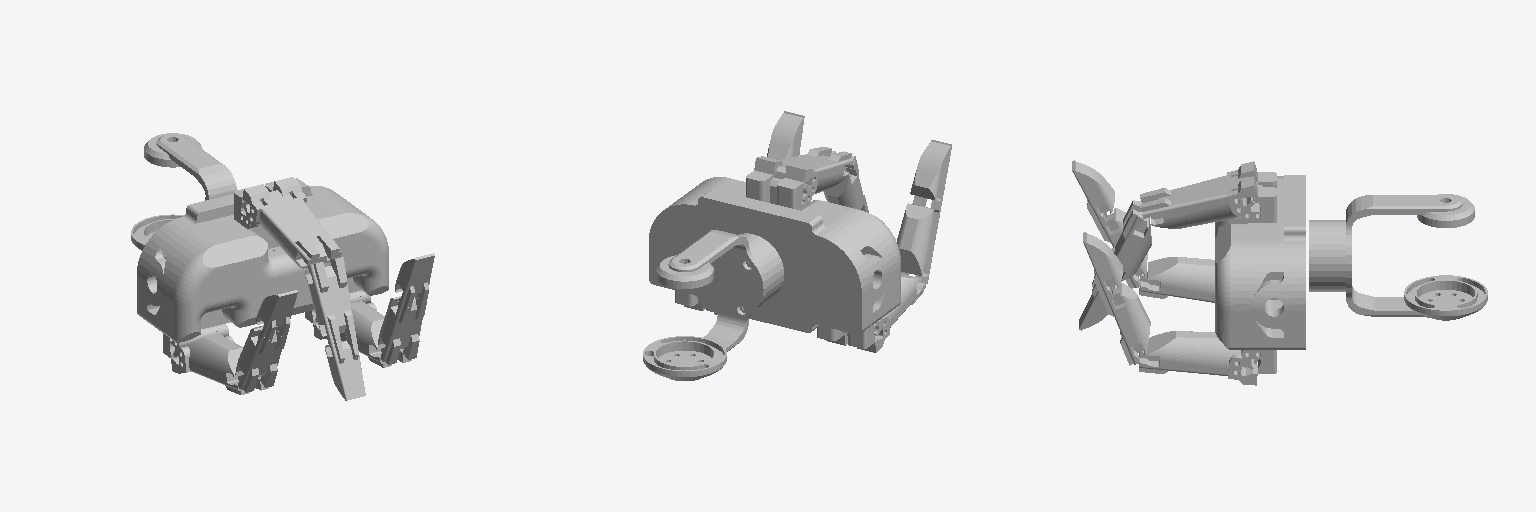
The model's file is HandO2_small.obj.
The picture shows the model from 3 angles: view 1: azimuth 30°, elevation 25°; view 2: azimuth 150°, elevation 25°; view 3: azimuth 270°, elevation 25°; orthographic projection.
Parts seen in each view (by area): view 1: Hand_ball_-_palmPadMountingPAD-1_Hand_ball_-_palmPadMountingPAD-, Hand_ball_-_Finger_Proximal-2_Hand_ball_-_Finger_Proximal-2.001, Hand_ball_-_Finger_Distal-3_Hand_ball_-_Finger_Distal-3.001, Hand_ball_-_Finger_Distal-1_Hand_ball_-_Finger_Distal-1.001, Hand_ball_-_Finger_Distal-2_Hand_ball_-_Finger_Distal-2.001, Hand_ball_-_FingerMountingTopPlate-1_Hand_ball_-_FingerMountingT, wrist_yaw_right.000, Hand_ball_-_ShaftSupport-1_Hand_ball_-_ShaftSupport-1.001, Hand_ball_-_Finger_Proximal-3_Hand_ball_-_Finger_Proximal-3.001, Hand_ball_-_Finger_Proximal-1_Hand_ball_-_Finger_Proximal-1.001, Hand_ball_-_eyeHookMountingPlate-1_Hand_ball_-_eyeHookMountingPl, wrist_yaw_right_flange.000 (+2 smaller); view 2: Hand_ball_-_ShaftSupport_underplate-1_Hand_ball_-_ShaftSupport_u, wrist_yaw_right.000, Hand_ball_-_Finger_Distal-2_Hand_ball_-_Finger_Distal-2.001, wrist_yaw_right_flange.000, Hand_ball_-_ShaftSupport-1_Hand_ball_-_ShaftSupport-1.001, Hand_ball_-_Finger_Proximal-2_Hand_ball_-_Finger_Proximal-2.001, Hand_ball_-_FingerMountingTopPlate-1_Hand_ball_-_FingerMountingT, Hand_ball_-_2015_12_28_Finger_New_baseOnly-1_Hand_ball_-_2015_12, Hand_ball_-_Finger_Distal-1_Hand_ball_-_Finger_Distal-1.001, Hand_ball_-_eyeHookMountingPlate-1_Hand_ball_-_eyeHookMountingPl, Hand_ball_-_Finger_Proximal-3_Hand_ball_-_Finger_Proximal-3.001, Cylinder.001 (+3 smaller); view 3: wrist_yaw_right.000, Hand_ball_-_Finger_Proximal-2_Hand_ball_-_Finger_Proximal-2.001, Hand_ball_-_Finger_Proximal-1_Hand_ball_-_Finger_Proximal-1.001, Hand_ball_-_ShaftSupport-1_Hand_ball_-_ShaftSupport-1.001, Hand_ball_-_FingerMountingTopPlate-1_Hand_ball_-_FingerMountingT, Hand_ball_-_Finger_Distal-1_Hand_ball_-_Finger_Distal-1.001, wrist_yaw_right_flange.000, Hand_ball_-_Finger_Proximal-3_Hand_ball_-_Finger_Proximal-3.001, Cylinder.001, Hand_ball_-_Finger_Distal-3_Hand_ball_-_Finger_Distal-3.001, Hand_ball_-_palmPadMountingPAD-1_Hand_ball_-_palmPadMountingPAD-, Hand_ball_-_Finger_Distal-2_Hand_ball_-_Finger_Distal-2.001 (+4 smaller).
Part boxes in pixels (x1,y1,x2,y2): Hand_ball_-_palmPadMountingPAD-1_Hand_ball_-_palmPadMountingPAD-: (172, 212, 388, 342); Hand_ball_-_Finger_Proximal-2_Hand_ball_-_Finger_Proximal-2.001: (242, 177, 341, 268); Hand_ball_-_Finger_Distal-3_Hand_ball_-_Finger_Distal-3.001: (305, 257, 365, 400); Hand_ball_-_Finger_Distal-1_Hand_ball_-_Finger_Distal-1.001: (378, 253, 434, 364); Hand_ball_-_Finger_Distal-2_Hand_ball_-_Finger_Distal-2.001: (235, 290, 297, 392); Hand_ball_-_FingerMountingTopPlate-1_Hand_ball_-_FingerMountingT: (147, 194, 360, 334); wrist_yaw_right.000: (144, 133, 236, 200); Hand_ball_-_ShaftSupport-1_Hand_ball_-_ShaftSupport-1.001: (139, 180, 345, 322); Hand_ball_-_Finger_Proximal-3_Hand_ball_-_Finger_Proximal-3.001: (171, 333, 268, 394); Hand_ball_-_Finger_Proximal-1_Hand_ball_-_Finger_Proximal-1.001: (313, 301, 411, 367); Hand_ball_-_eyeHookMountingPlate-1_Hand_ball_-_eyeHookMountingPl: (165, 207, 368, 338); wrist_yaw_right_flange.000: (131, 214, 183, 250); Hand_ball_-_ShaftSupport_underplate-1_Hand_ball_-_ShaftSupport_u: (649, 195, 863, 334); wrist_yaw_right.000: (656, 230, 766, 380); Hand_ball_-_Finger_Distal-2_Hand_ball_-_Finger_Distal-2.001: (897, 140, 951, 283); wrist_yaw_right_flange.000: (643, 336, 726, 379); Hand_ball_-_ShaftSupport-1_Hand_ball_-_ShaftSupport-1.001: (669, 189, 888, 330); Hand_ball_-_Finger_Proximal-2_Hand_ball_-_Finger_Proximal-2.001: (754, 147, 853, 195); Hand_ball_-_FingerMountingTopPlate-1_Hand_ball_-_FingerMountingT: (674, 183, 890, 324); Hand_ball_-_2015_12_28_Finger_New_baseOnly-1_Hand_ball_-_2015_12: (746, 170, 811, 210); Hand_ball_-_Finger_Distal-1_Hand_ball_-_Finger_Distal-1.001: (767, 111, 804, 159); Hand_ball_-_eyeHookMountingPlate-1_Hand_ball_-_eyeHookMountingPl: (696, 178, 896, 311); Hand_ball_-_Finger_Proximal-3_Hand_ball_-_Finger_Proximal-3.001: (826, 274, 925, 352); Cylinder.001: (739, 233, 783, 309); wrist_yaw_right.000: (1346, 194, 1474, 320); Hand_ball_-_Finger_Proximal-2_Hand_ball_-_Finger_Proximal-2.001: (1140, 161, 1257, 228); Hand_ball_-_Finger_Proximal-1_Hand_ball_-_Finger_Proximal-1.001: (1139, 331, 1257, 385); Hand_ball_-_ShaftSupport-1_Hand_ball_-_ShaftSupport-1.001: (1251, 175, 1299, 349); Hand_ball_-_FingerMountingTopPlate-1_Hand_ball_-_FingerMountingT: (1248, 176, 1283, 349); Hand_ball_-_Finger_Distal-1_Hand_ball_-_Finger_Distal-1.001: (1083, 232, 1150, 365); wrist_yaw_right_flange.000: (1404, 275, 1487, 319); Hand_ball_-_Finger_Proximal-3_Hand_ball_-_Finger_Proximal-3.001: (1139, 257, 1214, 302); Cylinder.001: (1309, 220, 1345, 291); Hand_ball_-_Finger_Distal-3_Hand_ball_-_Finger_Distal-3.001: (1079, 200, 1151, 330); Hand_ball_-_palmPadMountingPAD-1_Hand_ball_-_palmPadMountingPAD-: (1215, 218, 1234, 349); Hand_ball_-_Finger_Distal-2_Hand_ball_-_Finger_Distal-2.001: (1072, 160, 1147, 288).
Bounding box in the file's own units: 0.135 × 0.1 × 0.2279.